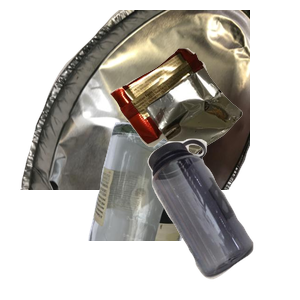glass: (86, 120, 277, 300)
metal: (18, 10, 258, 190)
plastic: (145, 136, 300, 300)
trash: (107, 46, 300, 198)
